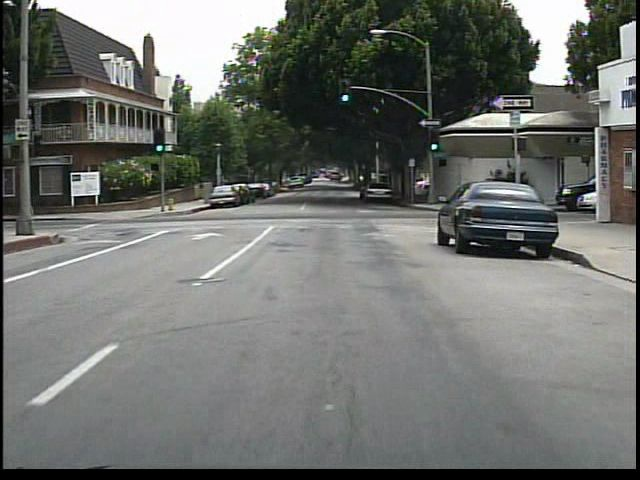person: (507, 170, 531, 212)
